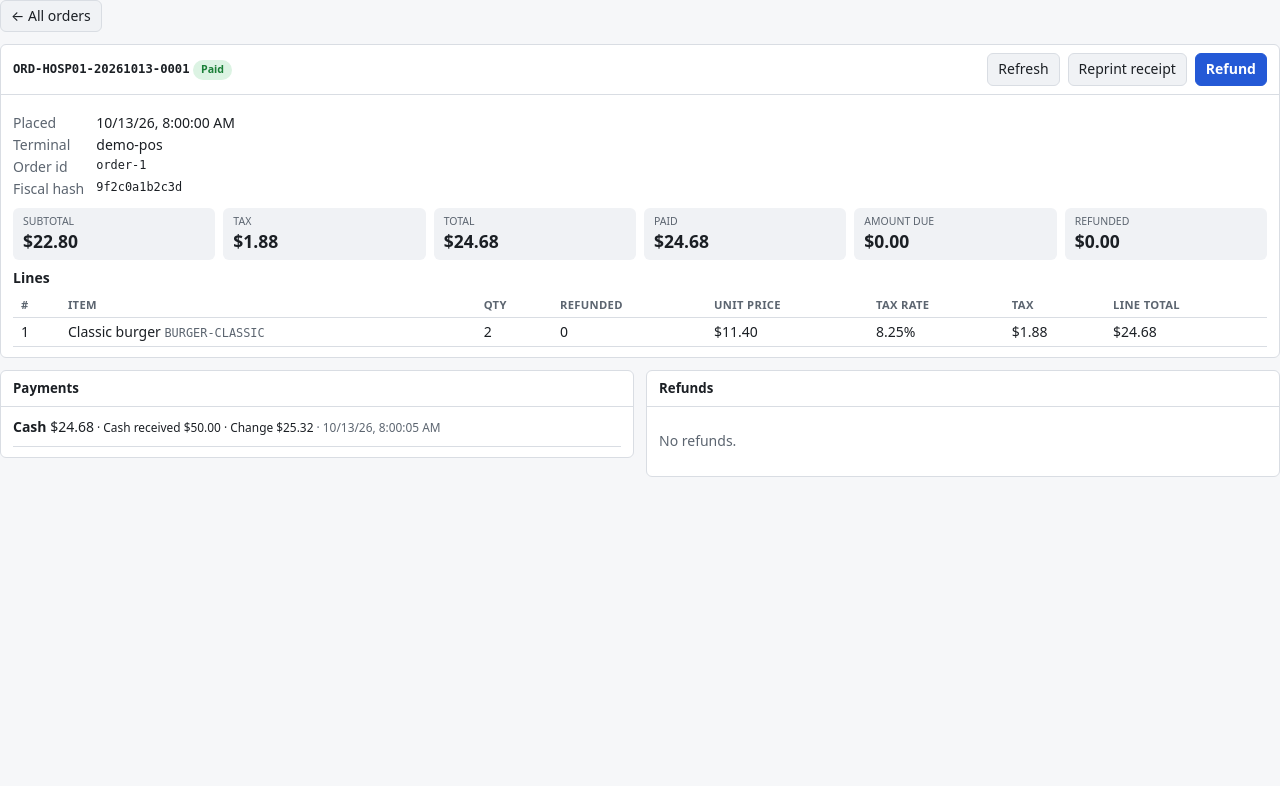
OrderDetail refund › clamps refund quantities to what is left
Click the button "Refund" at coordinates (1231, 69), box [1195,53,1267,86]
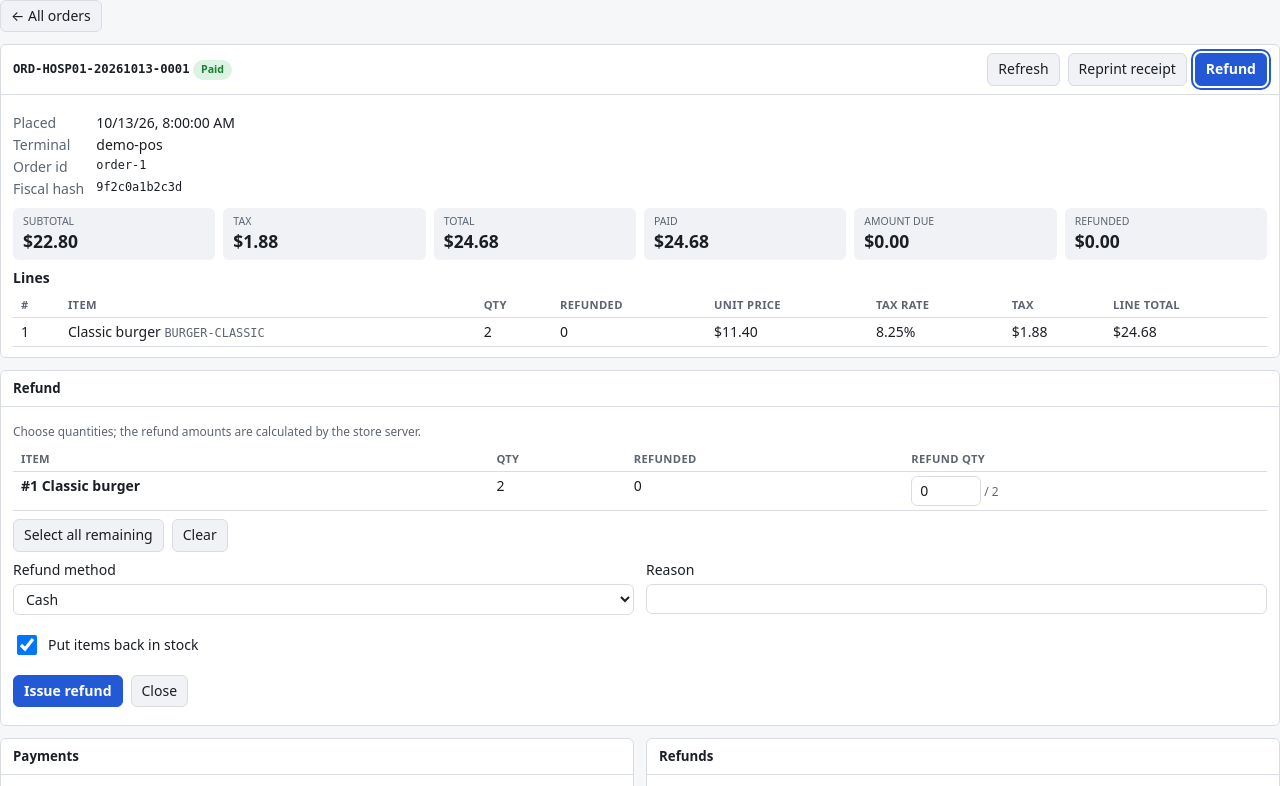
Replace the text in the number field labelled "#1 Classic burger" with "9" at coordinates (946, 491), box [911,476,981,506]
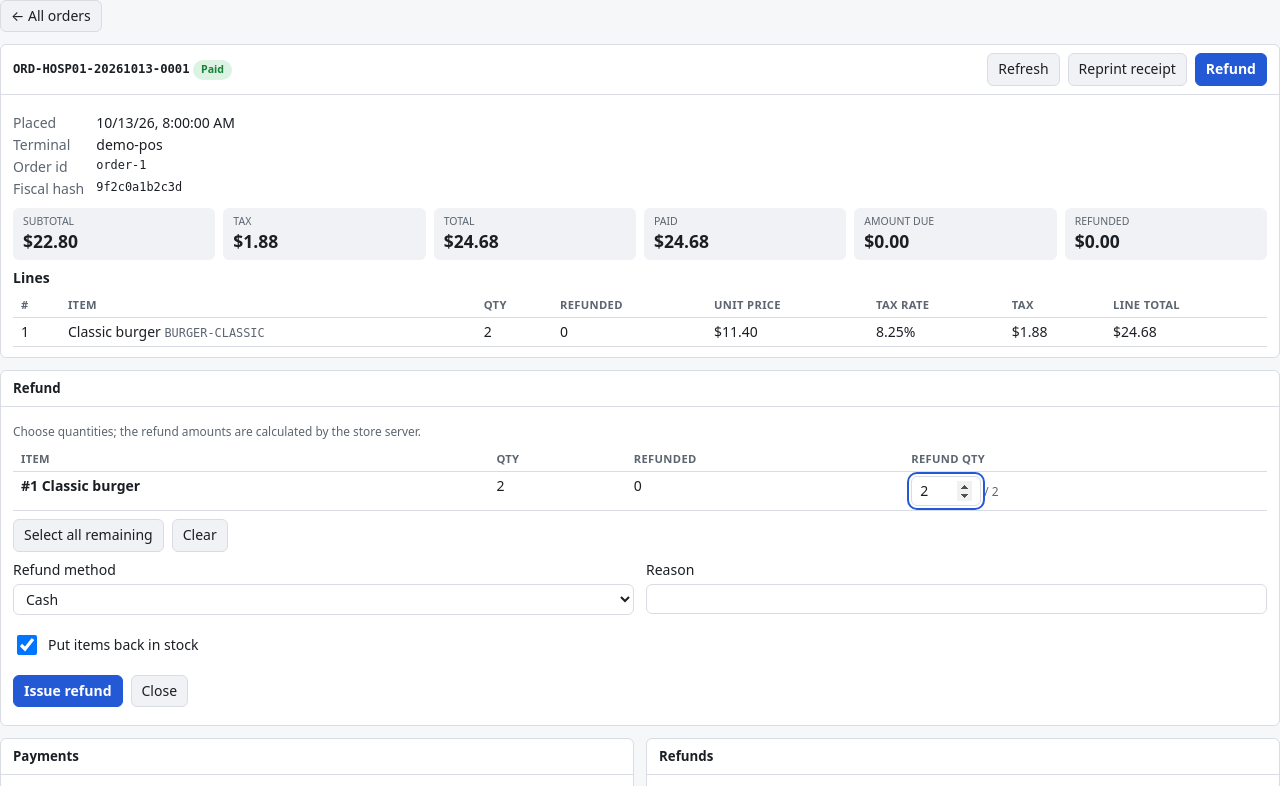
Result: the number field labelled "#1 Classic burger" holds "2" at [911,476,981,506]
